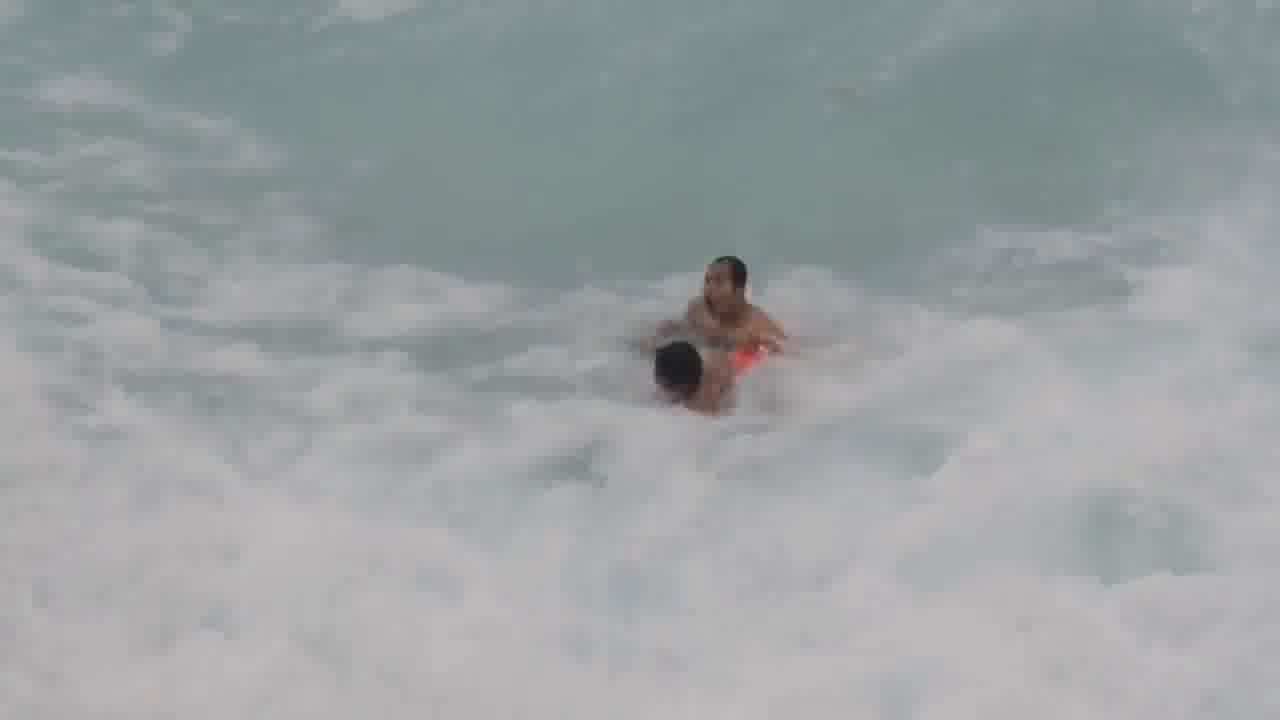human: (627, 325, 740, 434), (690, 235, 779, 321)
